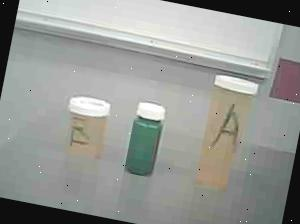Bottle A: (186, 63, 270, 202)
Bottle B: (59, 88, 118, 164)
Bottle C: (114, 94, 187, 195)
